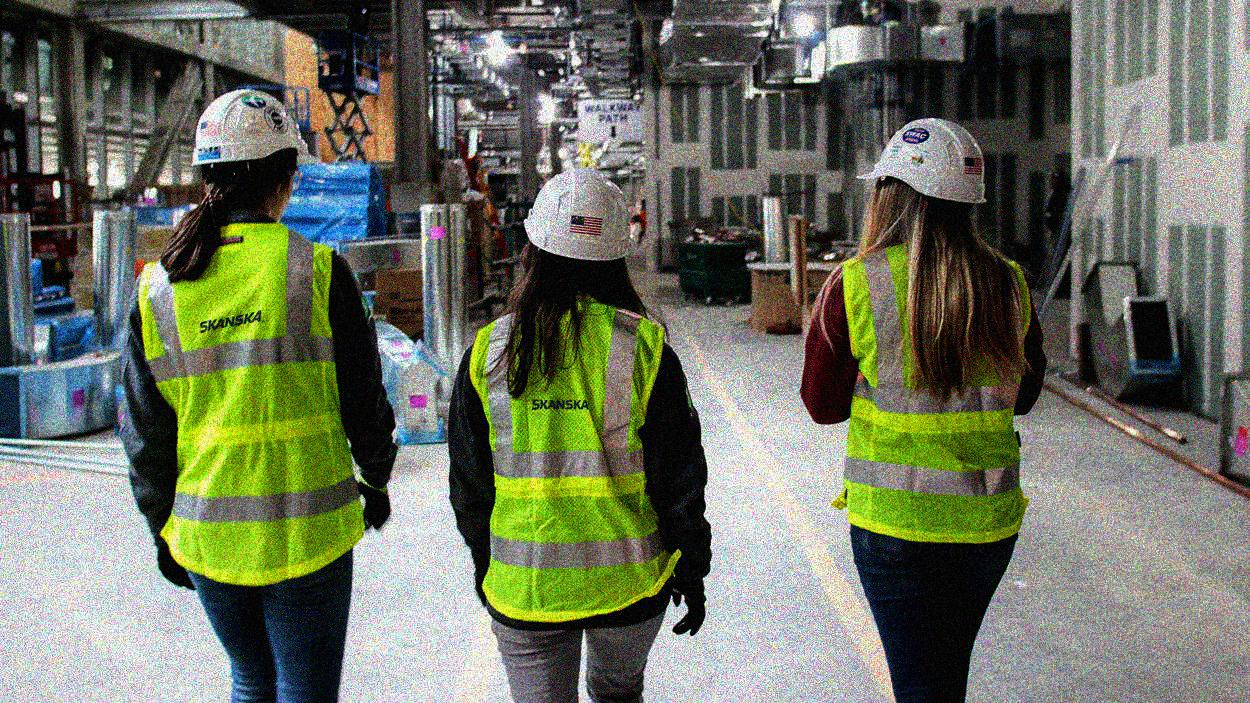helmet: (850, 115, 991, 249), (188, 84, 311, 234), (520, 166, 637, 297)
